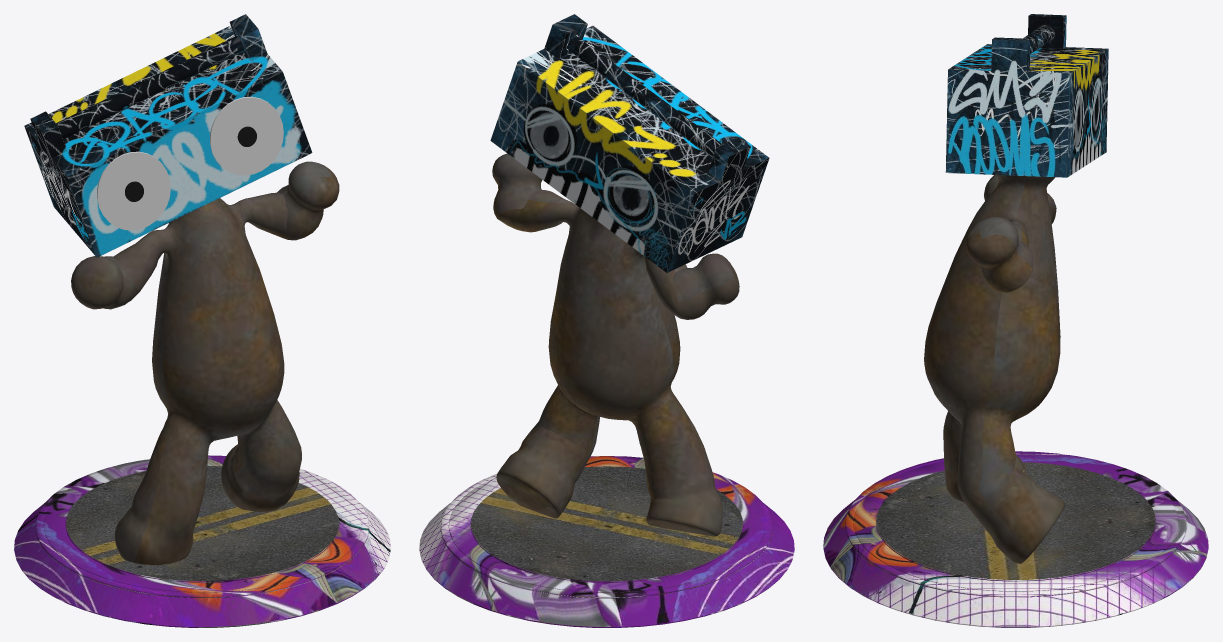
3 renders of one model, left to right at view 1: azimuth 30°, elevation 25°; view 2: azimuth 150°, elevation 25°; view 3: azimuth 270°, elevation 25°, orthographic. The views are drawn at different scales.
Bounding box in the file's own units: 1.45 × 2.2 × 1.45.
Materials: 6 (4 with a texture image).
